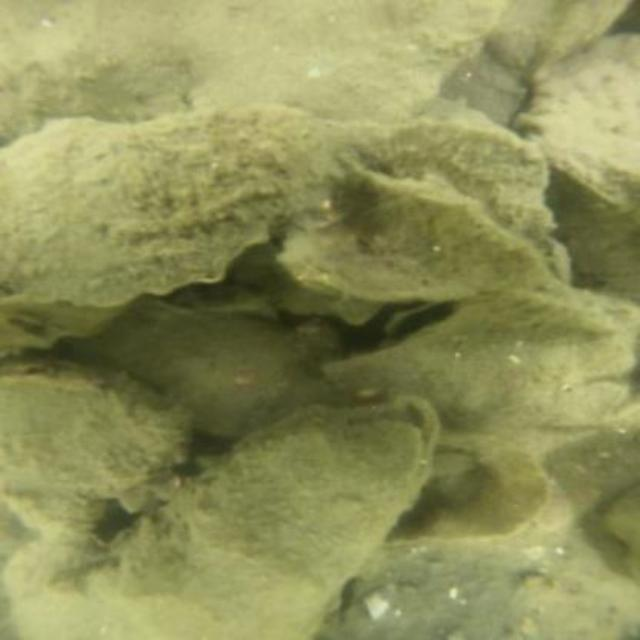Oyster-Closed: (69, 397, 443, 636), (0, 110, 351, 314), (314, 288, 638, 429), (276, 181, 573, 307), (0, 363, 184, 544), (347, 535, 632, 637), (92, 309, 312, 436), (332, 106, 547, 233), (366, 419, 552, 549), (510, 34, 638, 171)
Oyster-Open: (379, 293, 468, 359)
